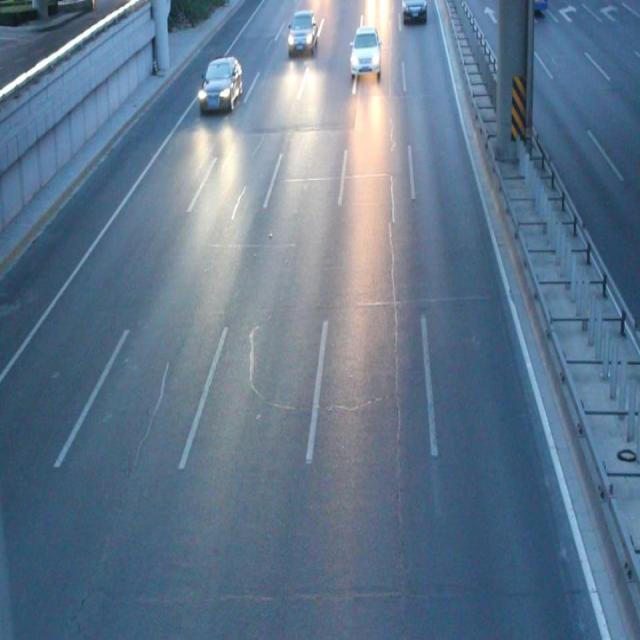car: (198, 56, 241, 111), (349, 28, 381, 78), (288, 12, 318, 57), (402, 1, 426, 24)
